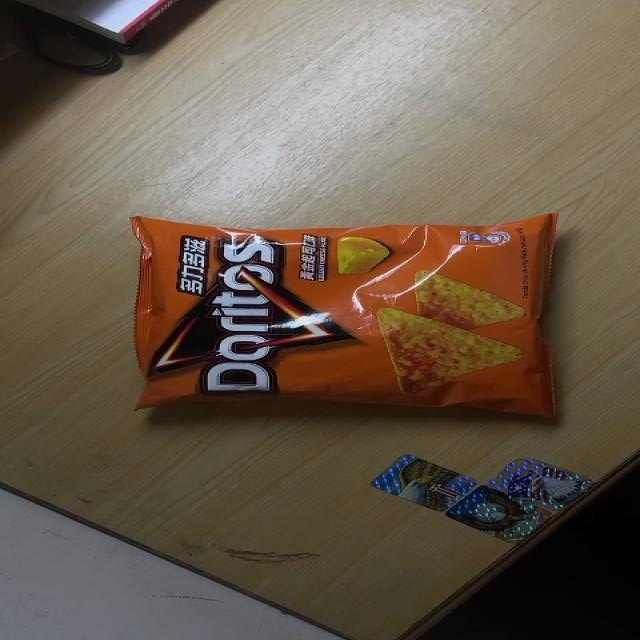Doritos: (129, 211, 563, 421)
